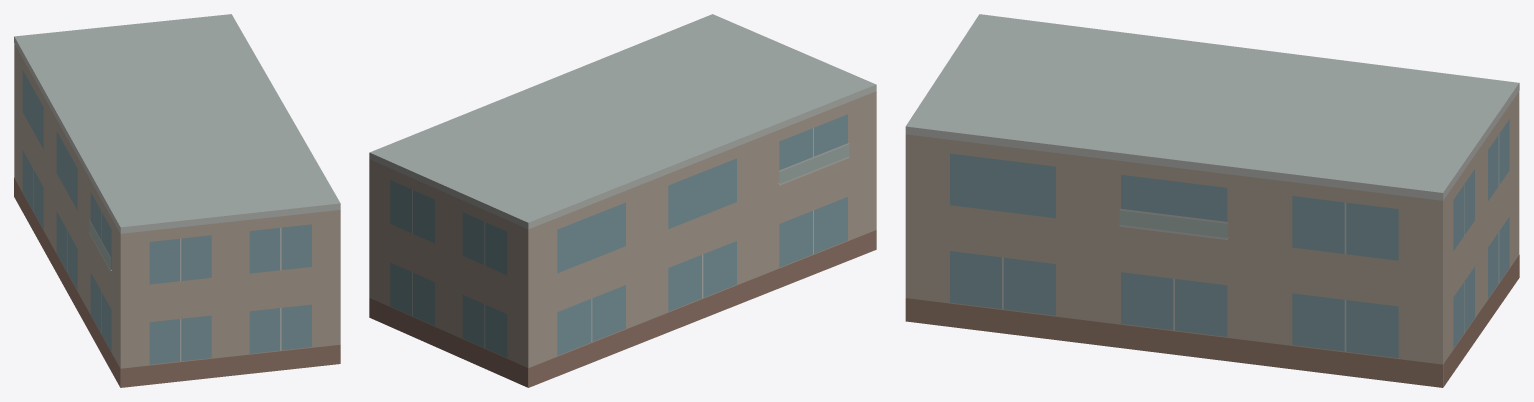
File: survey-upis-32872727.glb
3 renders of one model, left to right at view 1: azimuth 30°, elevation 25°; view 2: azimuth 150°, elevation 25°; view 3: azimuth 270°, elevation 25°, orthographic. The views are drawn at different scales.
Visible parts, largest first — view 1: survey-upis-32872727.tmp; view 2: survey-upis-32872727.tmp; view 3: survey-upis-32872727.tmp.
Boxes of the visible parts, x1,y1,x2,y2 form: survey-upis-32872727.tmp: (14, 14, 340, 387); survey-upis-32872727.tmp: (369, 14, 876, 387); survey-upis-32872727.tmp: (905, 14, 1519, 387).
Size of the model in its own units: 12.03 by 6.1 by 17.43.
